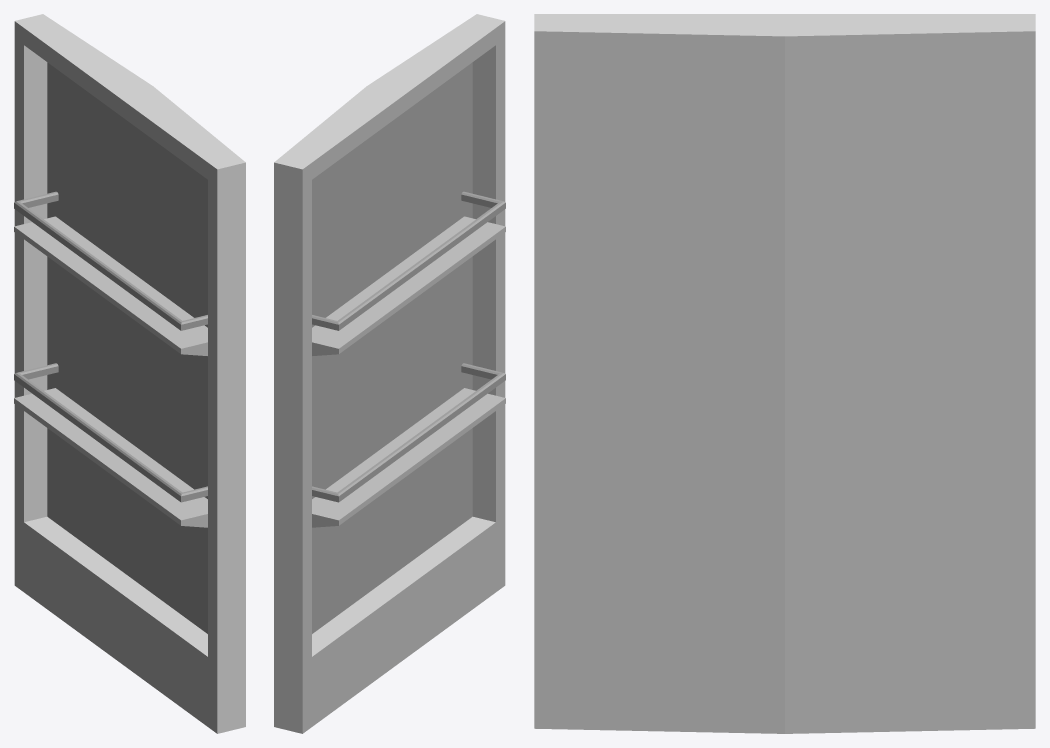
File: fridge_door.gltf
3 renders of one model, left to right at view 1: azimuth 30°, elevation 25°; view 2: azimuth 150°, elevation 25°; view 3: azimuth 270°, elevation 25°, orthographic. The views are drawn at different scales.
Visible parts, largest first — view 1: Fridge (Main Door).001; view 2: Fridge (Main Door).001; view 3: Fridge (Main Door).001.
Boxes of the visible parts, left/top/right/bottom form: Fridge (Main Door).001: left=14, top=14, right=245, bottom=733; Fridge (Main Door).001: left=274, top=14, right=505, bottom=733; Fridge (Main Door).001: left=534, top=14, right=1035, bottom=733.
Size of the model in its own units: 0.1441 by 1.4 by 0.9108.
1 material, 1 textured.
